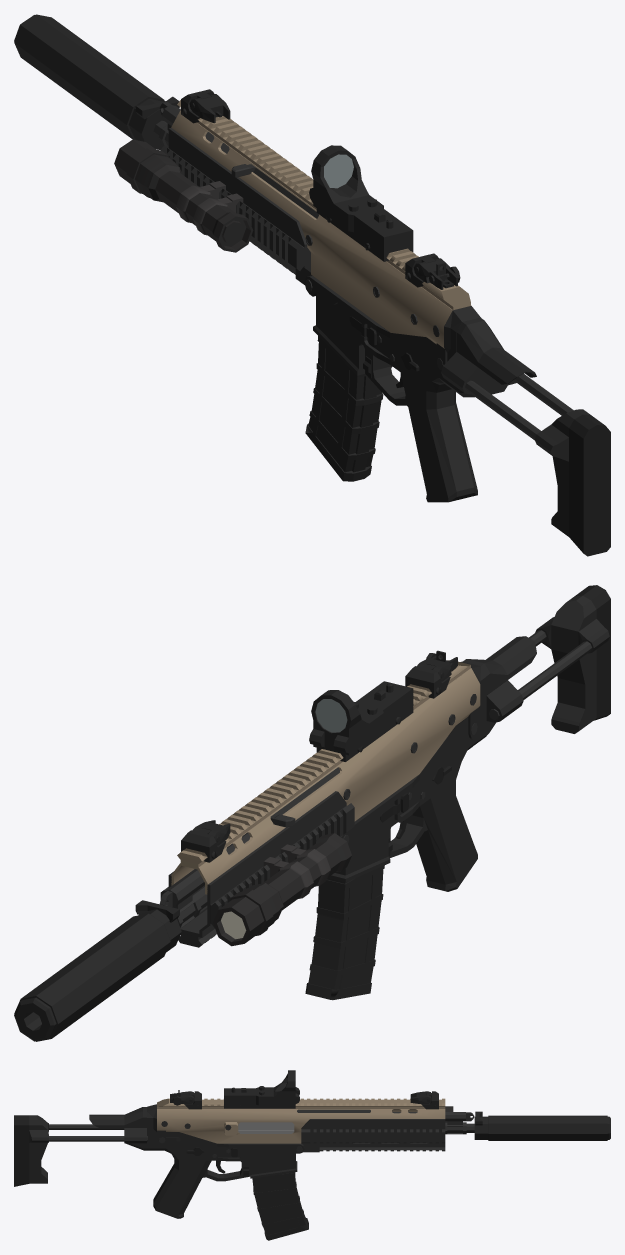
File: low_poly_acr_pdw.fbx
The picture shows the model from 3 angles, top to bottom: view 1: azimuth 30°, elevation 25°; view 2: azimuth 150°, elevation 25°; view 3: azimuth 270°, elevation 25°; orthographic projection. The views are drawn at different scales.
Visible parts, largest first — view 1: Receiver_Upper_ACR_Body_mat_0, Suppressor_Notch_Suppressor_Notch_mat_0, Butt_Pad_ACR_Stock_PDW_mat_0, Magazine_30_Round_PMAG_Magazine_Plastic_30_mat_0, Pistol_Grip_ACR_Body_mat_0, Receiver_Lower_ACR_Body_mat_0, Light_Tactical_Flashlights_mat_0, Body_RDS_C_mat_0, Pic_Rail_Top_ACR_Body_mat_0, Handguard_Railed_ACR_Handguard_mat_0, Stock_Cover_ACR_Stock_PDW_mat_0, Pic_RaiL_Left_ACR_Handguard_mat_0 (+7 smaller); view 2: Receiver_Upper_ACR_Body_mat_0, Suppressor_Notch_Suppressor_Notch_mat_0, Magazine_30_Round_PMAG_Magazine_Plastic_30_mat_0, Butt_Pad_ACR_Stock_PDW_mat_0, Receiver_Lower_ACR_Body_mat_0, Pistol_Grip_ACR_Body_mat_0, Light_Tactical_Flashlights_mat_0, Body_RDS_C_mat_0, Pic_Rail_Top_ACR_Body_mat_0, Handguard_Railed_ACR_Handguard_mat_0, Pic_RaiL_Left_ACR_Handguard_mat_0, Stock_Cover_ACR_Stock_PDW_mat_0 (+9 smaller); view 3: Receiver_Upper_ACR_Body_mat_0, Suppressor_Notch_Suppressor_Notch_mat_0, Receiver_Lower_ACR_Body_mat_0, Magazine_30_Round_PMAG_Magazine_Plastic_30_mat_0, Pistol_Grip_ACR_Body_mat_0, Butt_Pad_ACR_Stock_PDW_mat_0, Handguard_Railed_ACR_Handguard_mat_0, Pic_Rail_Right_ACR_Handguard_mat_0, Pic_Rail_Top_ACR_Body_mat_0, Body_RDS_C_mat_0, Stock_Cover_ACR_Stock_PDW_mat_0, Pic_Rail_Bottom_ACR_Handguard_mat_0 (+6 smaller).
Boxes of the visible parts, <box> form: Receiver_Upper_ACR_Body_mat_0: <box>171,110,471,348</box>; Suppressor_Notch_Suppressor_Notch_mat_0: <box>14,14,164,149</box>; Butt_Pad_ACR_Stock_PDW_mat_0: <box>534,409,610,556</box>; Magazine_30_Round_PMAG_Magazine_Plastic_30_mat_0: <box>305,336,383,481</box>; Pistol_Grip_ACR_Body_mat_0: <box>365,349,477,502</box>; Receiver_Lower_ACR_Body_mat_0: <box>304,275,451,392</box>; Light_Tactical_Flashlights_mat_0: <box>114,139,253,252</box>; Body_RDS_C_mat_0: <box>309,145,413,261</box>; Pic_Rail_Top_ACR_Body_mat_0: <box>177,100,470,309</box>; Handguard_Railed_ACR_Handguard_mat_0: <box>168,128,311,285</box>; Stock_Cover_ACR_Stock_PDW_mat_0: <box>457,317,536,384</box>; Pic_RaiL_Left_ACR_Handguard_mat_0: <box>160,146,304,270</box>; Receiver_Upper_ACR_Body_mat_0: <box>171,668,480,894</box>; Suppressor_Notch_Suppressor_Notch_mat_0: <box>14,909,181,1041</box>; Magazine_30_Round_PMAG_Magazine_Plastic_30_mat_0: <box>305,865,384,1000</box>; Butt_Pad_ACR_Stock_PDW_mat_0: <box>535,585,610,733</box>; Receiver_Lower_ACR_Body_mat_0: <box>327,717,476,882</box>; Pistol_Grip_ACR_Body_mat_0: <box>388,780,477,891</box>; Light_Tactical_Flashlights_mat_0: <box>213,833,351,946</box>; Body_RDS_C_mat_0: <box>309,681,413,761</box>; Pic_Rail_Top_ACR_Body_mat_0: <box>177,660,470,867</box>; Handguard_Railed_ACR_Handguard_mat_0: <box>168,791,346,937</box>; Pic_RaiL_Left_ACR_Handguard_mat_0: <box>210,803,354,927</box>; Stock_Cover_ACR_Stock_PDW_mat_0: <box>463,636,536,695</box>; Receiver_Upper_ACR_Body_mat_0: <box>157,1109,445,1143</box>; Suppressor_Notch_Suppressor_Notch_mat_0: <box>474,1115,610,1140</box>; Receiver_Lower_ACR_Body_mat_0: <box>157,1132,304,1178</box>; Magazine_30_Round_PMAG_Magazine_Plastic_30_mat_0: <box>252,1172,308,1240</box>; Pistol_Grip_ACR_Body_mat_0: <box>153,1159,250,1218</box>; Butt_Pad_ACR_Stock_PDW_mat_0: <box>14,1115,48,1186</box>; Handguard_Railed_ACR_Handguard_mat_0: <box>301,1119,445,1152</box>; Pic_Rail_Right_ACR_Handguard_mat_0: <box>301,1129,445,1143</box>; Pic_Rail_Top_ACR_Body_mat_0: <box>157,1098,445,1108</box>; Body_RDS_C_mat_0: <box>224,1070,299,1108</box>; Stock_Cover_ACR_Stock_PDW_mat_0: <box>89,1107,146,1127</box>; Pic_Rail_Bottom_ACR_Handguard_mat_0: <box>319,1146,445,1151</box>.
Bounding box in the file's own units: 0.0463 × 0.1381 × 0.4488.
12 materials, 12 textured.
